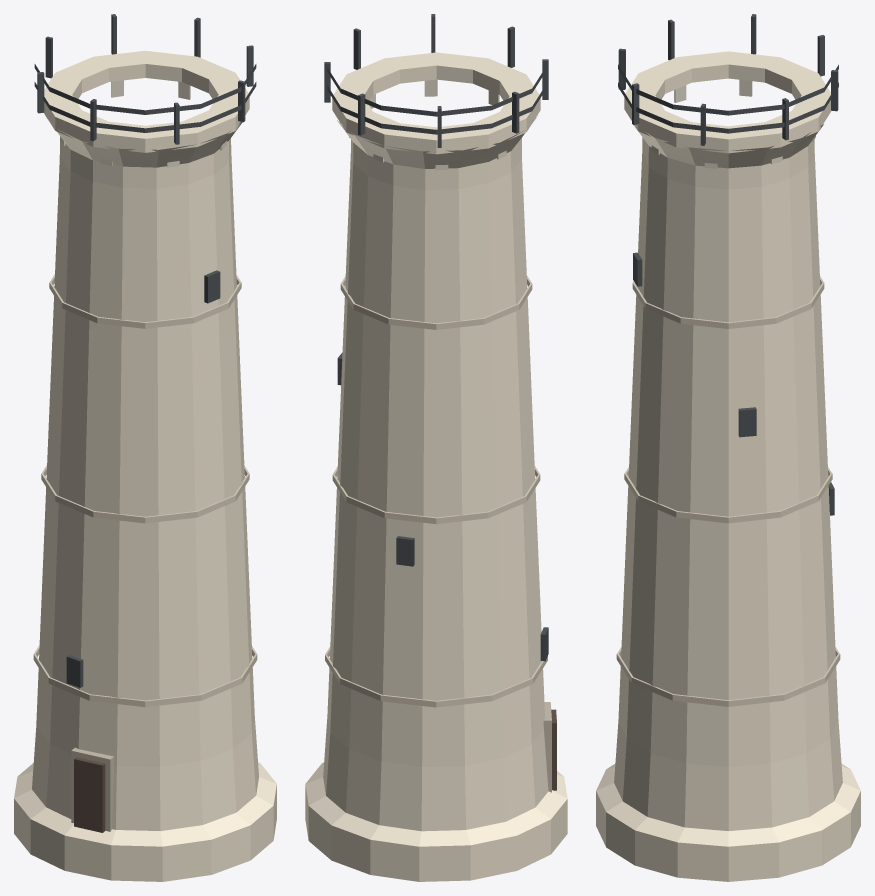
Rendered from nw_lh_close.glb.
The picture shows the model from 3 angles, left to right: view 1: azimuth 30°, elevation 25°; view 2: azimuth 150°, elevation 25°; view 3: azimuth 270°, elevation 25°; orthographic projection.
Visible parts, largest first — view 1: nw_lh_close_lod0; view 2: nw_lh_close_lod0; view 3: nw_lh_close_lod0.
Boxes of the visible parts, x1=… form: nw_lh_close_lod0: x1=14, y1=14, x2=276, y2=881; nw_lh_close_lod0: x1=305, y1=14, x2=567, y2=881; nw_lh_close_lod0: x1=596, y1=14, x2=860, y2=881.
Size of what is drawn, in the model's own units: 9.05 by 28.88 by 9.05.
